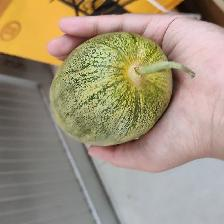gua: (58, 43, 161, 128)
